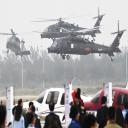helicopter: (50, 23, 128, 65), (42, 9, 106, 41), (1, 29, 32, 60)
